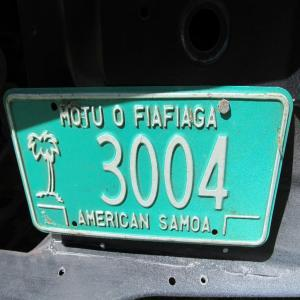Vehicle-registration-plate: (4, 87, 295, 249)
